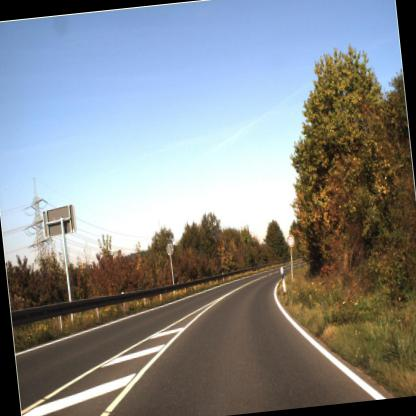prohibitory: (286, 234, 296, 249)
